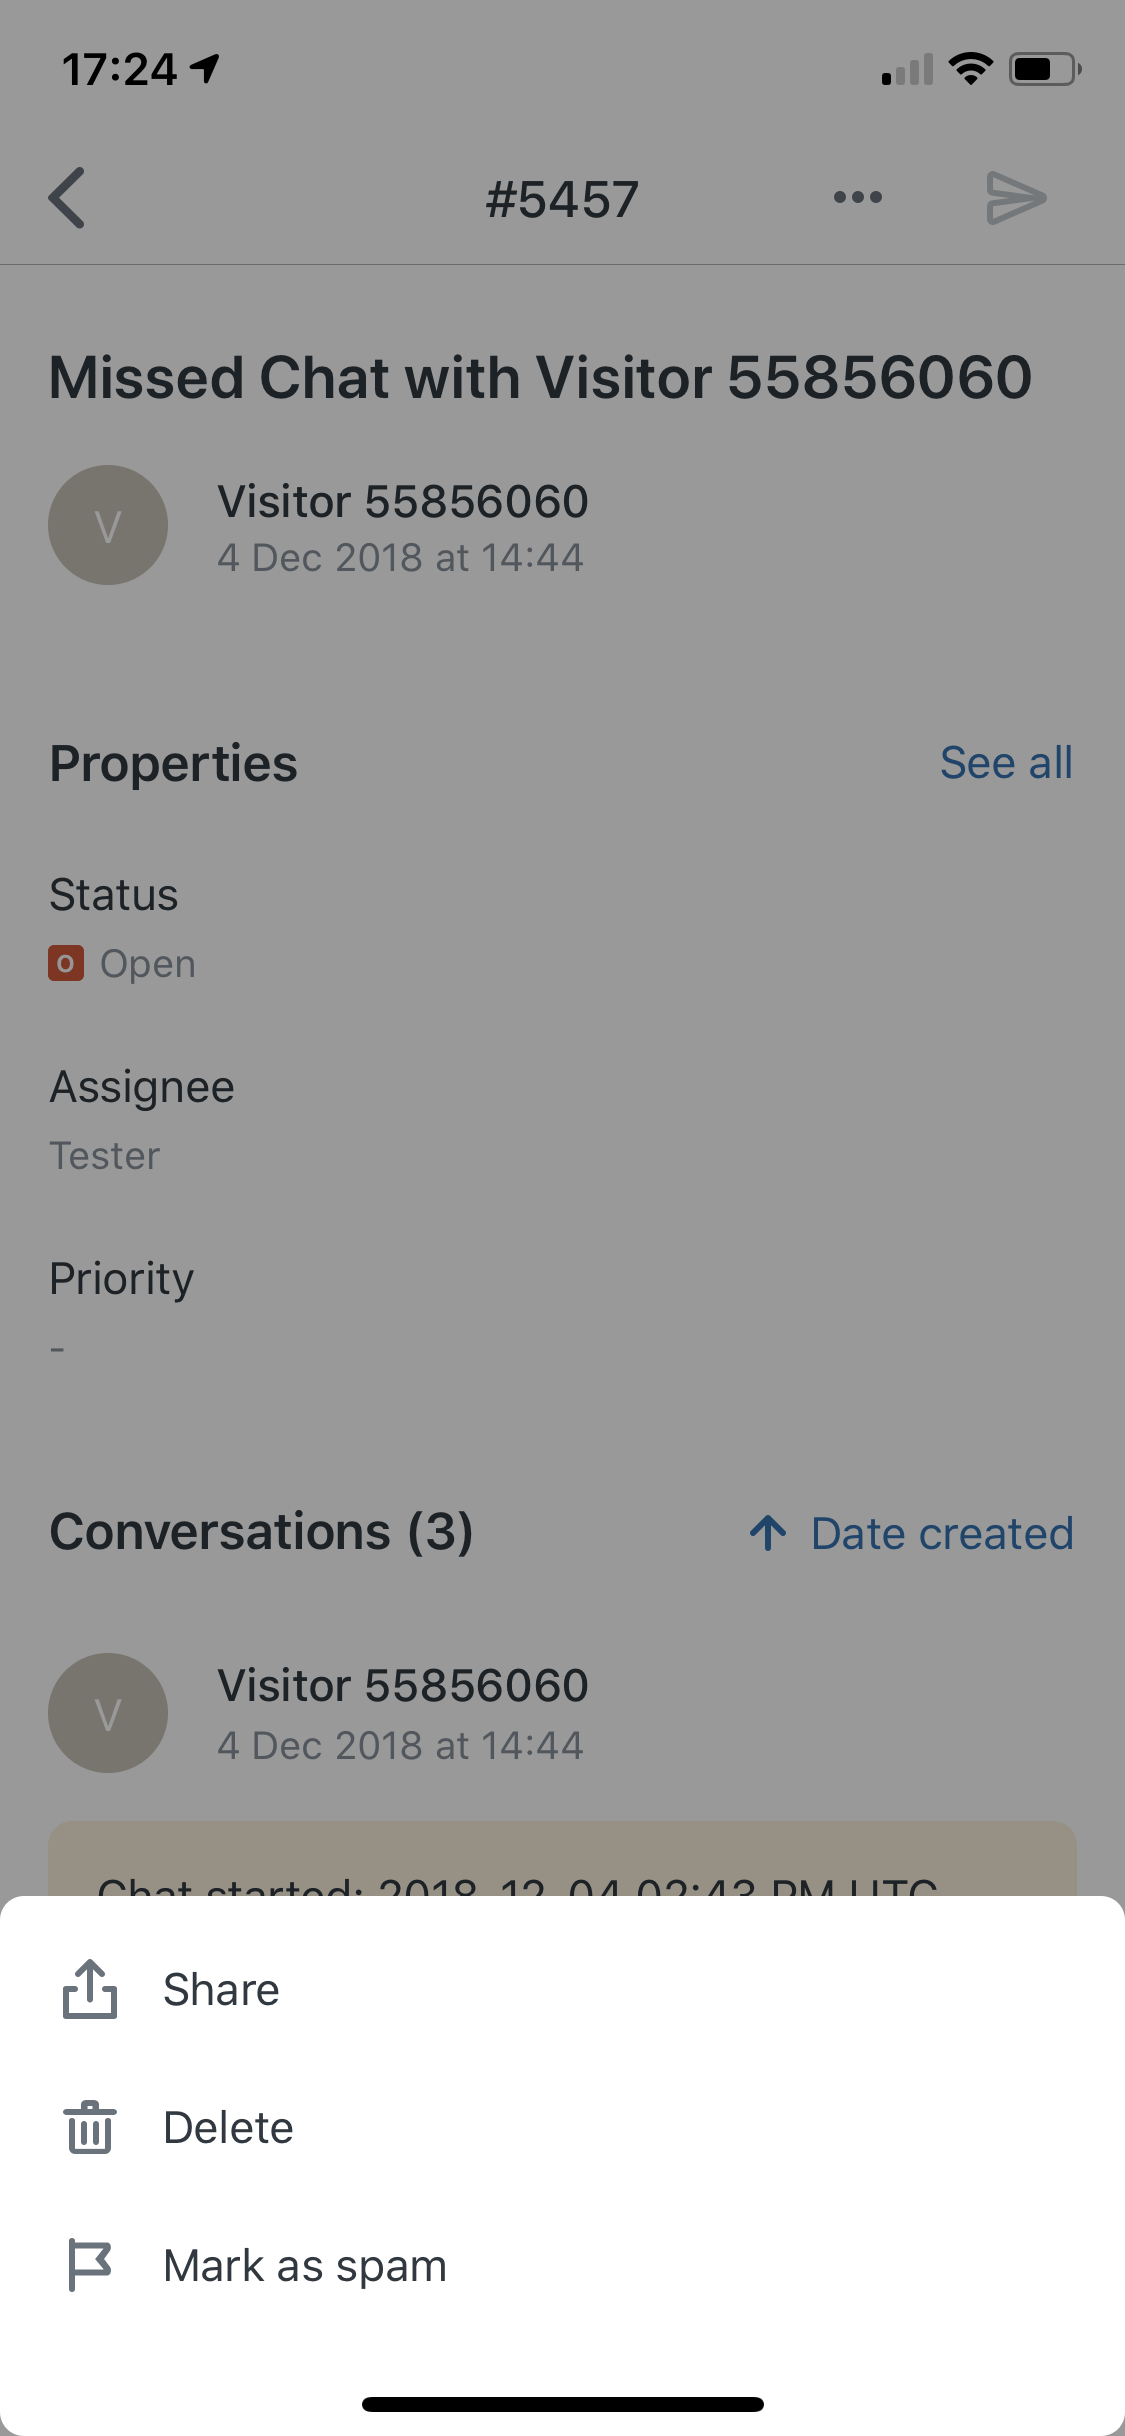Buttons: (730, 1470, 1091, 1586), (897, 705, 1099, 806), (786, 137, 932, 259), (12, 134, 134, 261), (953, 135, 1061, 259)
